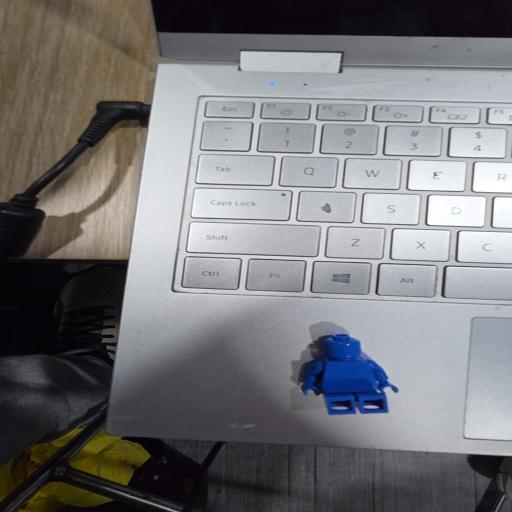Blue: (301, 334, 398, 415)
